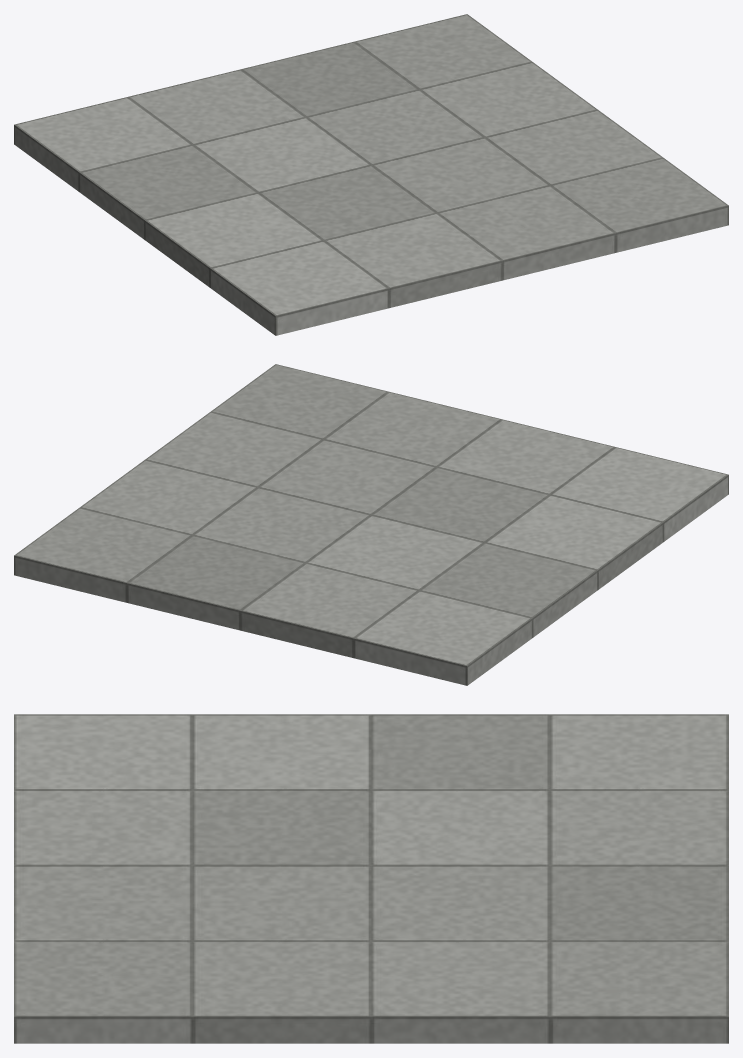
The model's file is sidewalk_120.glb.
3 views of the same model, one above another, from view 1: azimuth 30°, elevation 25°; view 2: azimuth 150°, elevation 25°; view 3: azimuth 270°, elevation 25° (orthographic). The views are drawn at different scales.
Visible parts, largest first — view 1: sidewalk_120-col; view 2: sidewalk_120-col; view 3: sidewalk_120-col.
Part boxes in pixels (x1,y1,x2,y2): sidewalk_120-col: (14,14,728,335); sidewalk_120-col: (14,364,728,685); sidewalk_120-col: (14,714,728,1043).
Bounding box in the file's own units: 1.2 × 0.05 × 1.2.
Materials: 1 (1 with a texture image).
